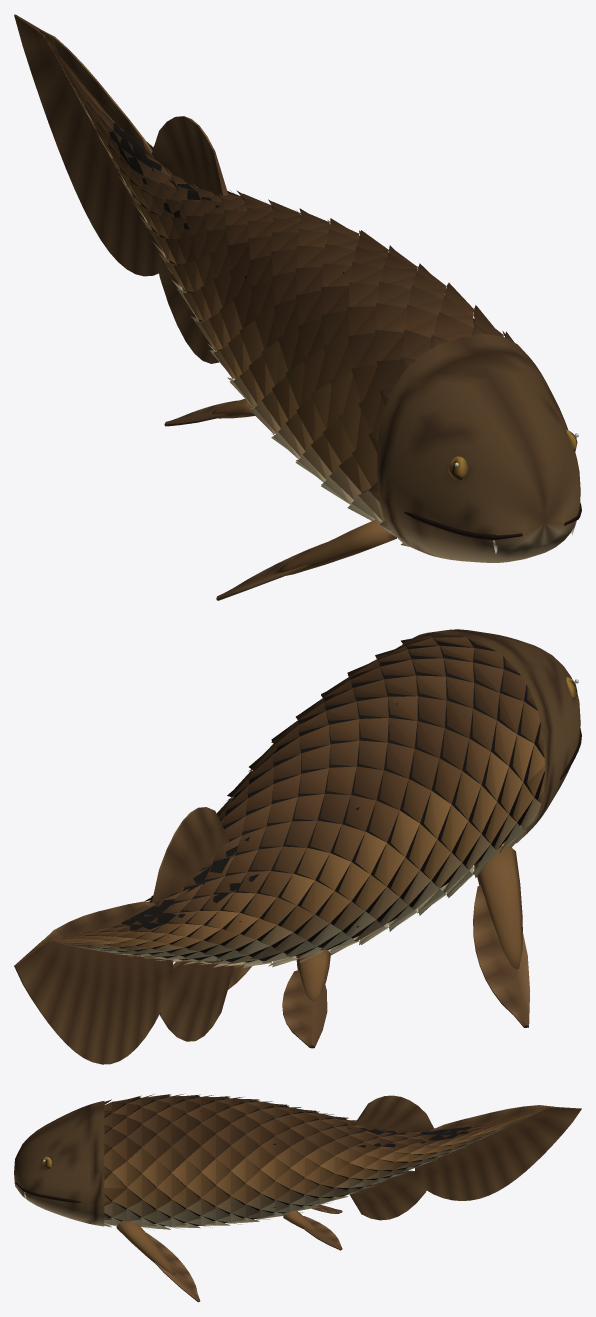
Rendered from Holoptychius.fbx.
3 renders of one model, top to bottom at view 1: azimuth 30°, elevation 25°; view 2: azimuth 150°, elevation 25°; view 3: azimuth 270°, elevation 25°, orthographic. The views are drawn at different scales.
Visible parts, largest first — view 1: Holoptychius; view 2: Holoptychius; view 3: Holoptychius.
Part boxes in pixels (x1,y1,x2,y2): Holoptychius: (14,14,581,600); Holoptychius: (14,629,581,1064); Holoptychius: (14,1094,581,1302).
Size of the model in its own units: 0.579 by 0.5497 by 1.7.
